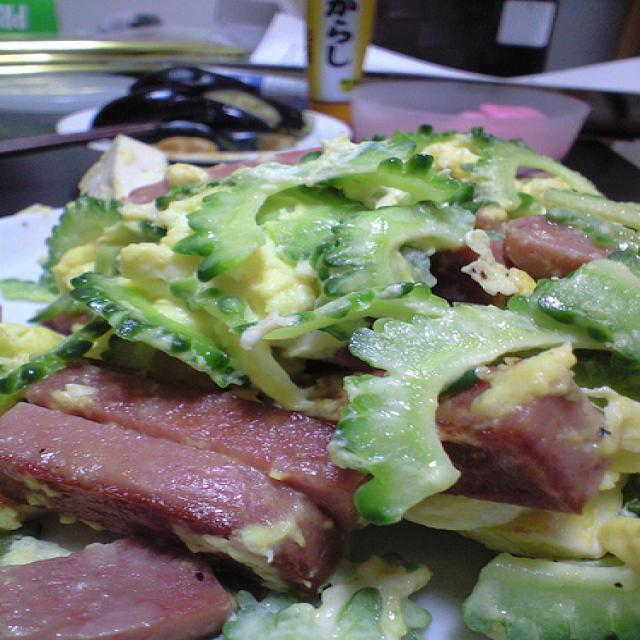熟制海鲜: (0, 120, 640, 640)
